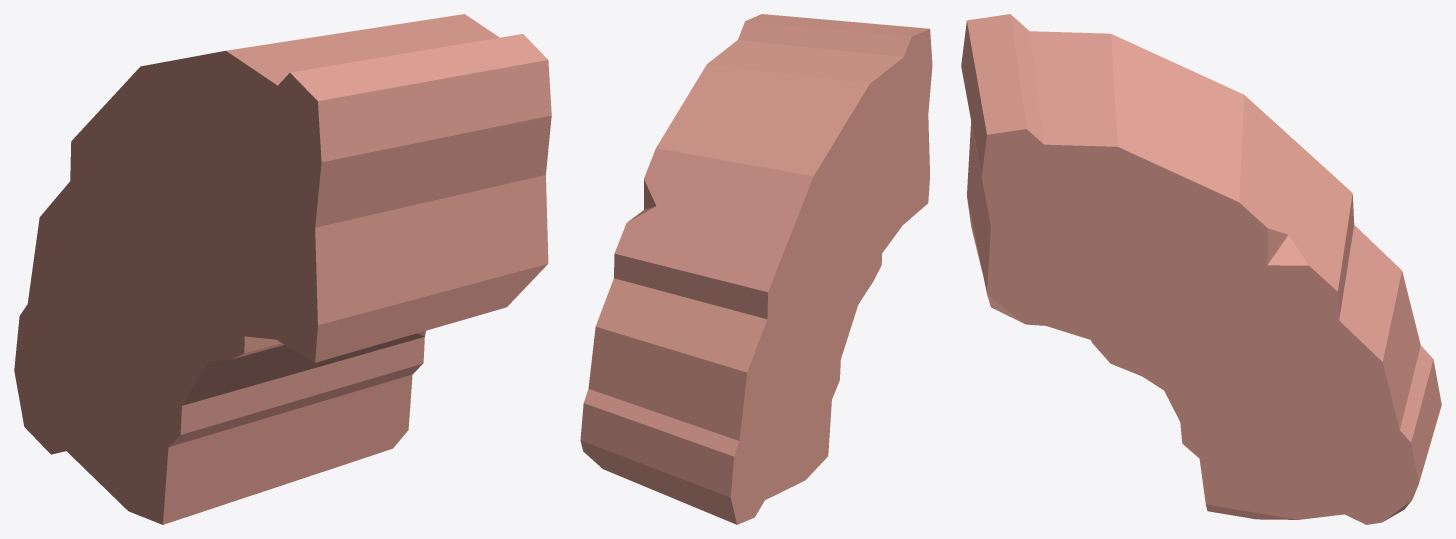
Rendered from SuperGrid_RingQuarter_013_Vlad.fbx.
3 views of the same model, side by side, from view 1: azimuth 30°, elevation 25°; view 2: azimuth 150°, elevation 25°; view 3: azimuth 270°, elevation 25° (orthographic). The views are drawn at different scales.
Parts seen in each view (by area): view 1: SuperGrid_RingQuarter.013; view 2: SuperGrid_RingQuarter.013; view 3: SuperGrid_RingQuarter.013.
Boxes of the visible parts, x1,y1,x2,y2 form: SuperGrid_RingQuarter.013: (14, 14, 551, 524); SuperGrid_RingQuarter.013: (580, 14, 932, 524); SuperGrid_RingQuarter.013: (961, 14, 1441, 524).
Size of the model in its own units: 10000 by 21869 by 21869.
